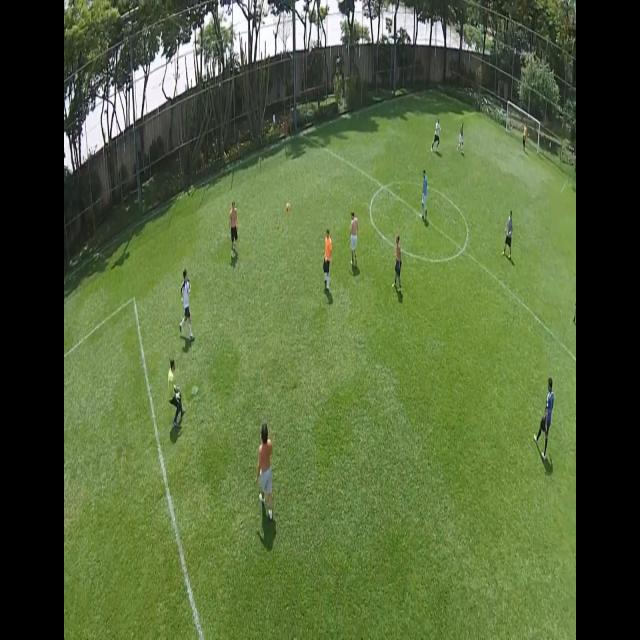humans: (256, 414, 276, 524), (538, 372, 556, 467), (168, 354, 186, 434), (180, 259, 195, 344), (321, 227, 336, 298), (391, 230, 407, 296), (417, 162, 432, 231), (227, 198, 242, 264), (501, 203, 516, 262), (348, 208, 361, 272), (431, 110, 443, 160), (457, 116, 466, 159)
